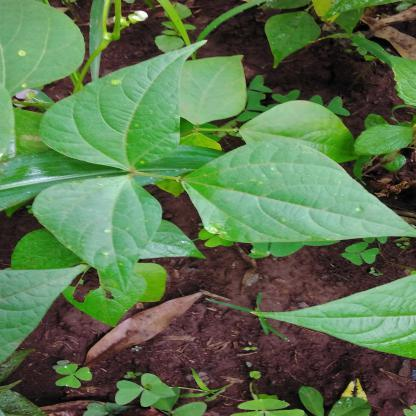Beans_Rust: (181, 142, 416, 239), (37, 42, 199, 172), (39, 174, 160, 274), (0, 0, 82, 96)
